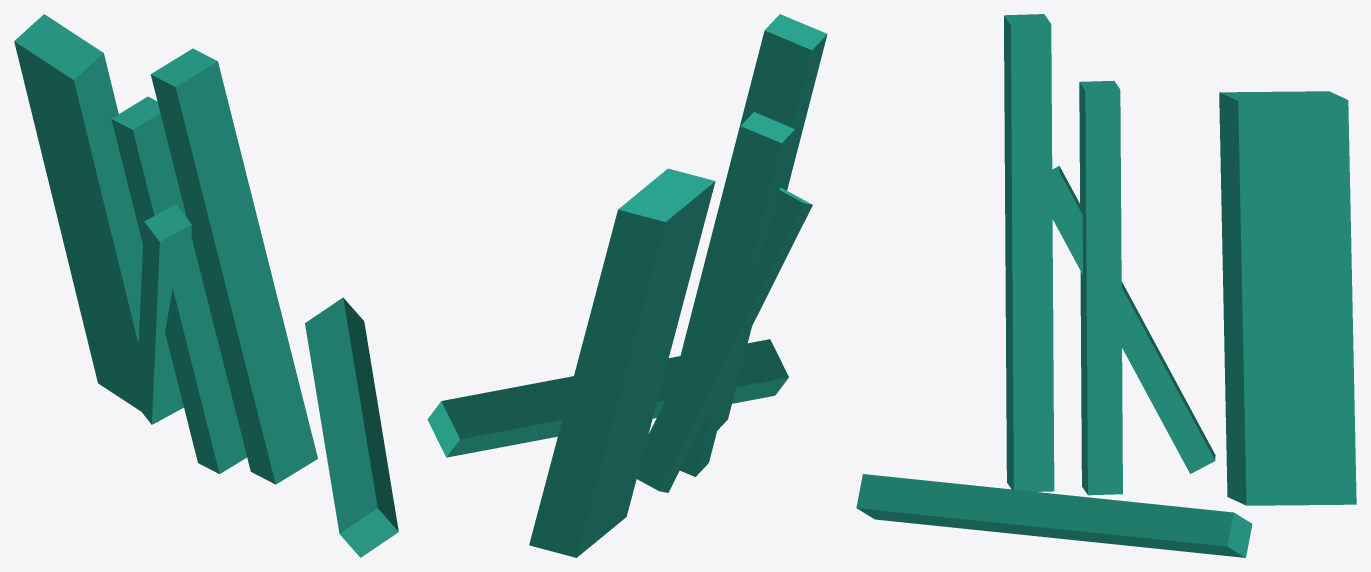
File: bloks.FBX
3 views of the same model, side by side, from view 1: azimuth 30°, elevation 25°; view 2: azimuth 150°, elevation 25°; view 3: azimuth 270°, elevation 25° (orthographic). The views are drawn at different scales.
Parts seen in each view (by area): view 1: group_1821907980; view 2: group_1821907980; view 3: group_1821907980.
Part boxes in pixels (<box>): group_1821907980: <box>14,14,398,557</box>; group_1821907980: <box>427,14,827,557</box>; group_1821907980: <box>856,14,1356,557</box>.
Bounding box in the file's own units: 201 × 287 × 284.
